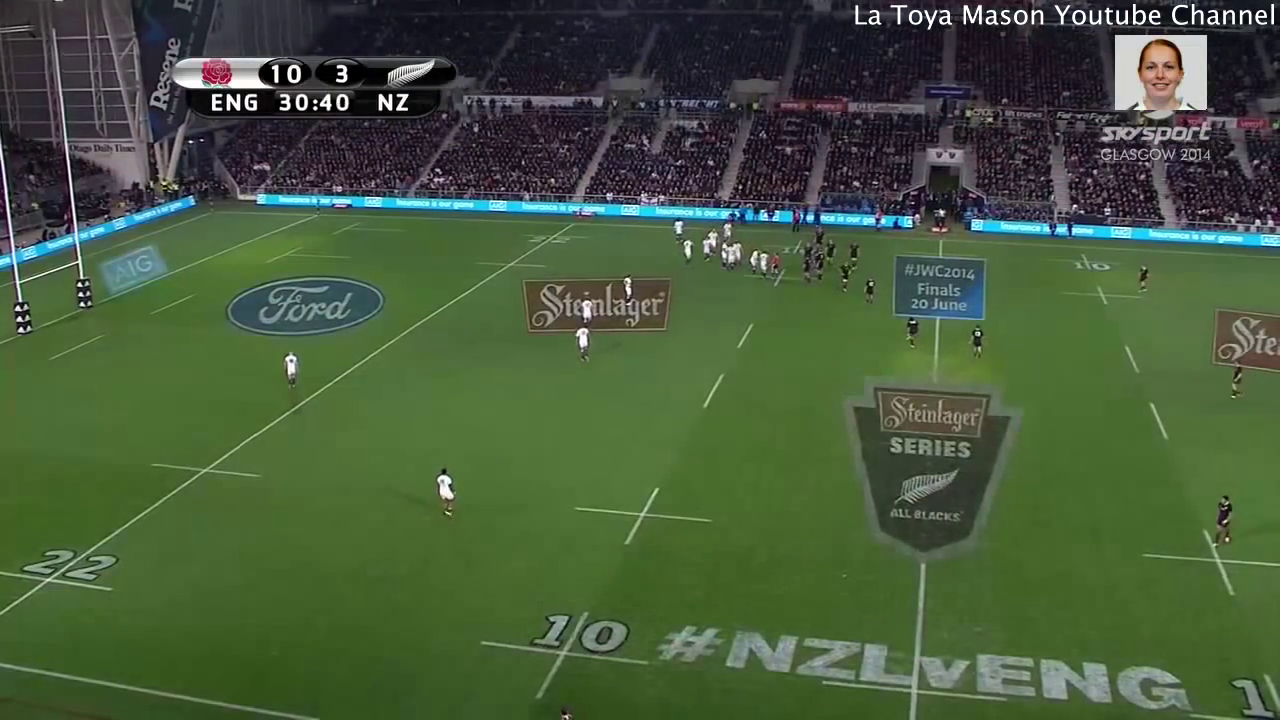10_metre: (473, 600, 654, 705), (1129, 520, 1280, 608), (571, 483, 717, 552), (1182, 653, 1280, 720), (1060, 276, 1157, 313), (1043, 248, 1128, 276), (741, 263, 815, 292), (760, 235, 829, 256)
player: (1201, 483, 1241, 555), (432, 463, 460, 525), (1225, 352, 1251, 397), (571, 323, 594, 370), (967, 321, 991, 366), (1129, 257, 1154, 298), (280, 347, 302, 391), (901, 314, 923, 349), (862, 272, 882, 306), (845, 238, 862, 275), (836, 261, 854, 295), (679, 236, 697, 268), (811, 250, 828, 283), (798, 254, 813, 289), (757, 249, 773, 281), (746, 245, 762, 277), (580, 295, 595, 329), (823, 236, 839, 267), (621, 274, 635, 308), (724, 241, 738, 274), (768, 251, 784, 279), (733, 239, 747, 271), (810, 225, 828, 249), (672, 215, 686, 245), (719, 219, 736, 243), (699, 236, 714, 263), (706, 227, 719, 257), (718, 237, 729, 268), (799, 242, 813, 259)
post: (1, 14, 97, 341)
